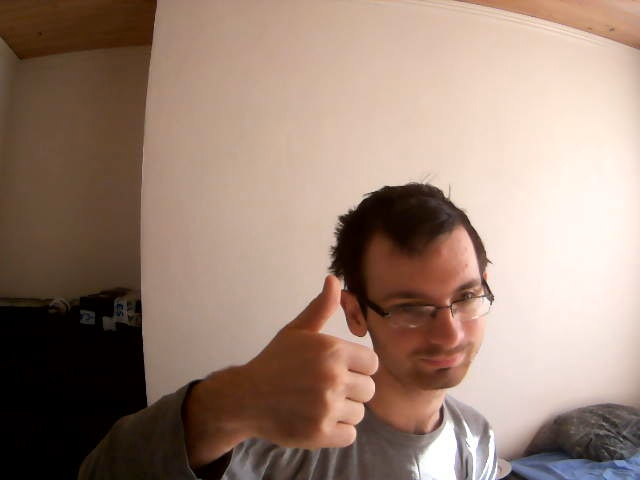nice: (266, 271, 382, 452)
